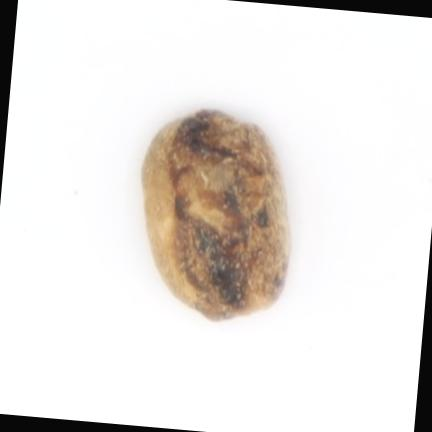partial-black: (142, 110, 289, 319)
